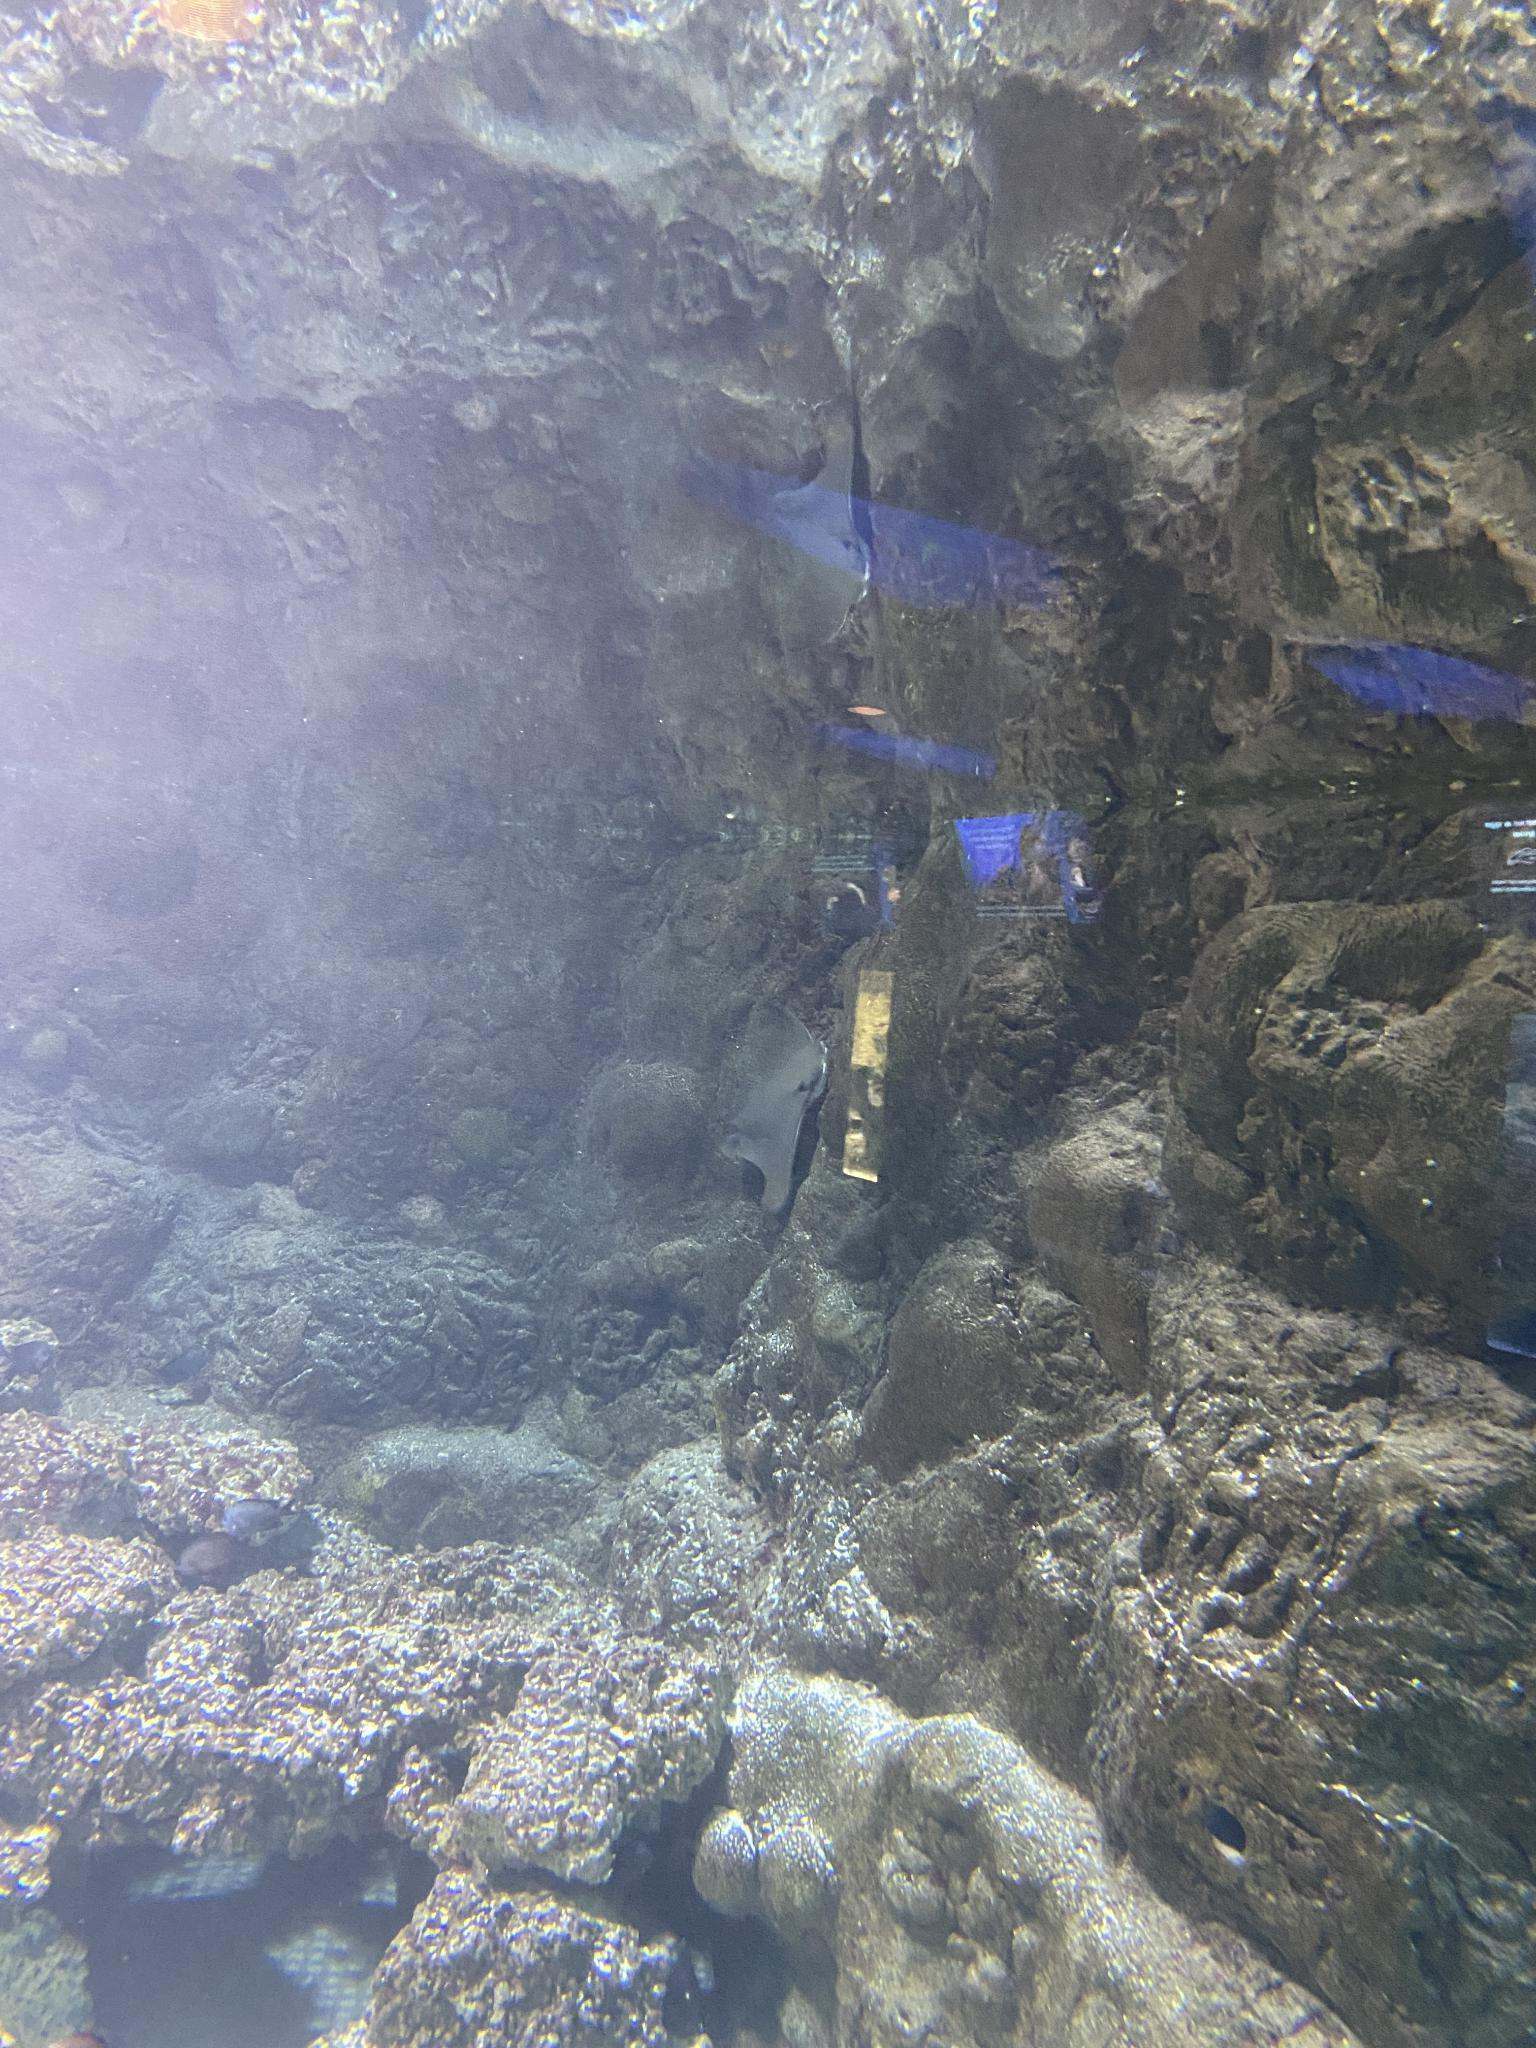stingray: (721, 999, 830, 1218)
